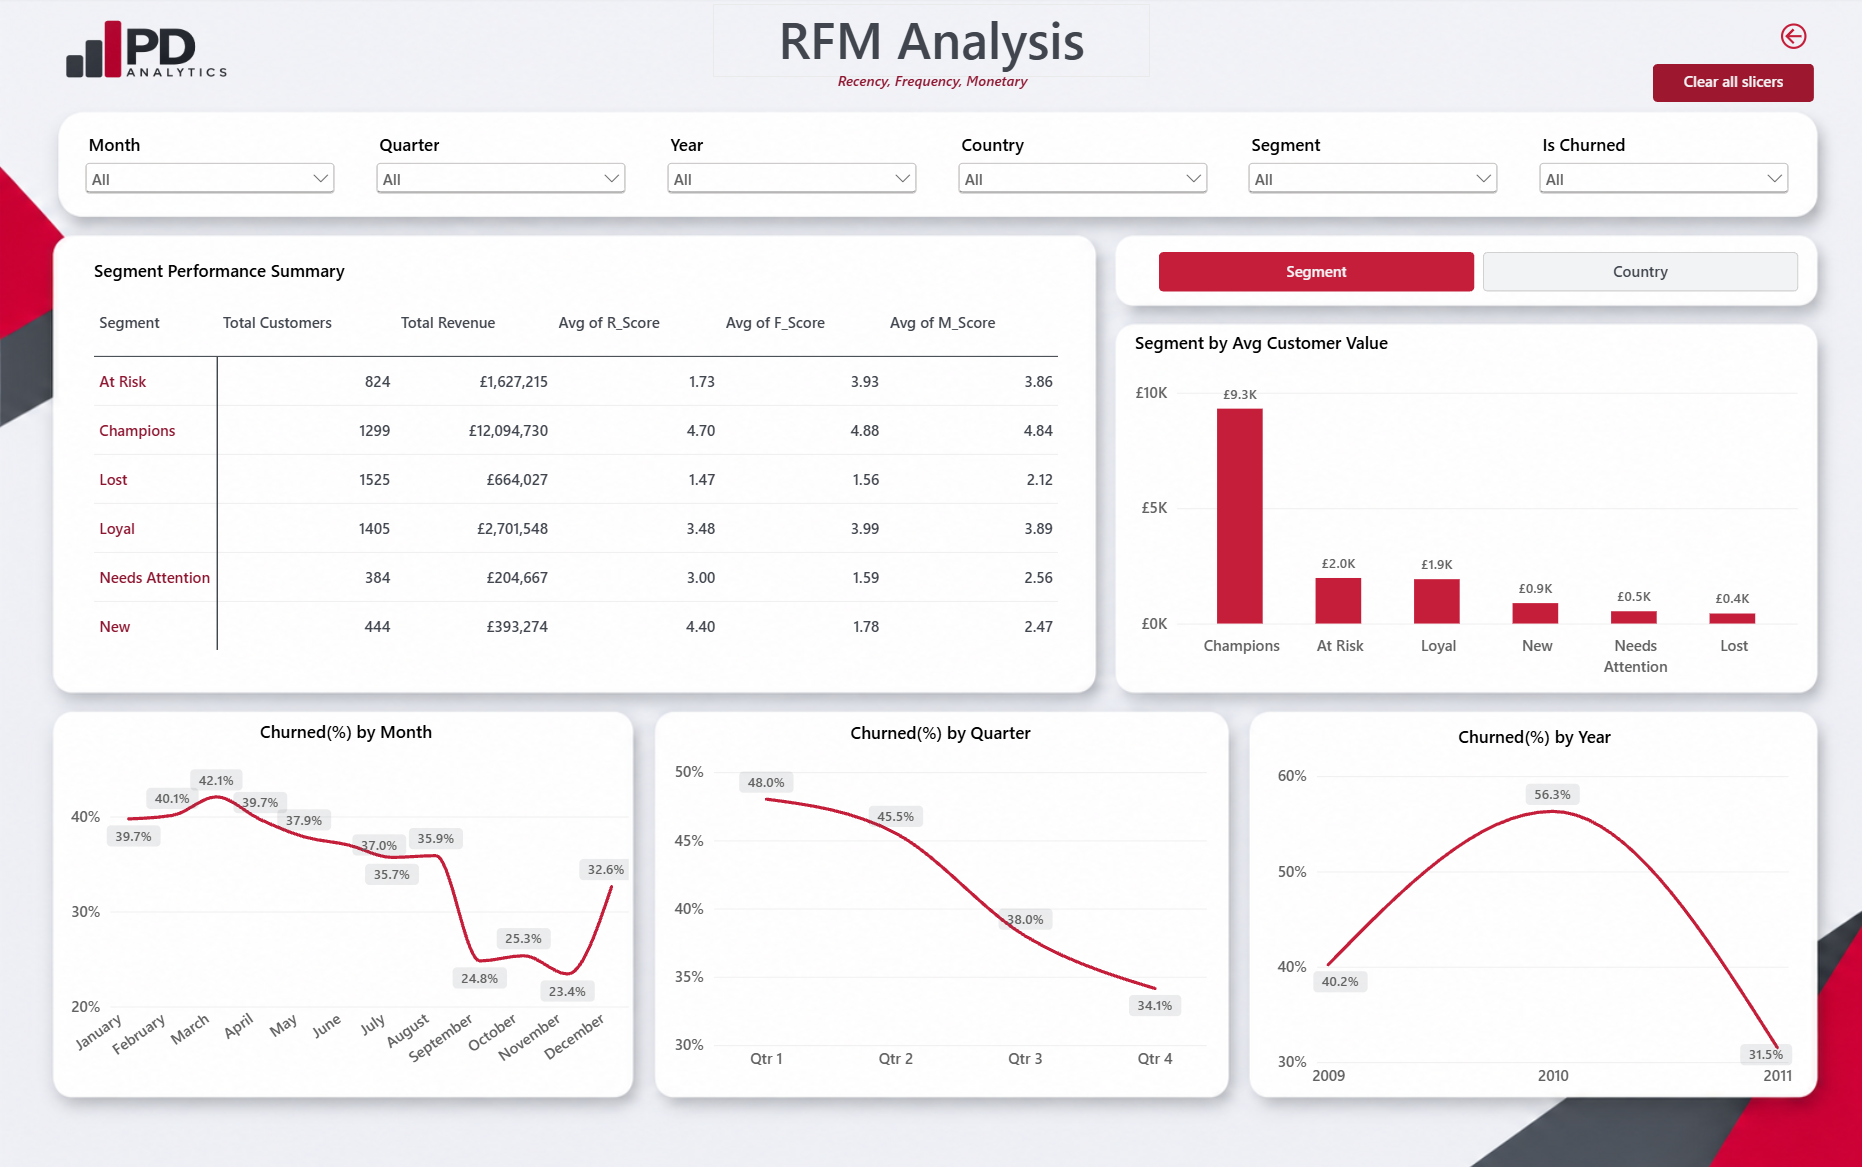

This screenshot's page, from the dashboard's own definition file:
{"tool":"powerbi","page":{"name":"RFM Analysis","canvas":[1750,1100],"ordinal":2},"visuals":[{"type":"slicer","fields":{"Values":["Retail.InvoiceDate.Variation.Date Hierarchy.Month"]},"box":[75.2,127.7,244,68],"z":0},{"type":"columnChart","title":"Segment by Avg Customer Value","fields":{"Category":["Retail.Segment"],"Y":["Retail._Average Customer Value"]},"box":[1048.9,300,654.4,356.7],"z":0,"group":"g1"},{"type":"pivotTable","title":"Segment Performance Summary","fields":{"Rows":["Retail.Segment"],"Values":["Retail._Total Customers","Retail._Total Revenue","Avg(Retail.R_Score)","Avg(Retail.F_Score)","Avg(Retail.M_Score)"]},"box":[72.2,232.2,940,414.4],"z":1000,"group":"g1"},{"type":"lineChart","title":"Churned(%) by Month","fields":{"Category":["Retail.InvoiceDate.Variation.Date Hierarchy.Month"],"Y":["Retail._Churn %"]},"box":[43.5,664.7,563.3,368.9],"z":1000},{"type":"slicer","fields":{"Values":["Retail.InvoiceDate.Variation.Date Hierarchy.Quarter"]},"box":[348.2,127.7,244,68],"z":2000},{"type":"lineChart","title":"Churned(%) by Quarter","fields":{"Category":["Retail.InvoiceDate.Variation.Date Hierarchy.Quarter"],"Y":["Retail._Churn %"]},"box":[616.3,665.2,532.2,362.2],"z":3000},{"type":"slicer","fields":{"Values":["Retail.InvoiceDate.Variation.Date Hierarchy.Year"]},"box":[621.1,127.7,244,68],"z":4000},{"type":"lineChart","title":"Churned(%) by Year","fields":{"Category":["Retail.InvoiceDate.Variation.Date Hierarchy.Year"],"Y":["Retail._Churn %"]},"box":[1182.9,669.5,515.6,374.4],"z":5000},{"type":"slicer","fields":{"Values":["Retail.Country"]},"box":[894,127.7,244,68],"z":6000},{"type":"slicer","fields":{"Values":["Retail.Segmentation"]},"box":[1167,127.7,244,68],"z":7000},{"type":"slicer","fields":{"Values":["Retail.IsChurned"]},"box":[1439.9,127.7,244,68],"z":8000},{"type":"bookmarkNavigator","box":[1087.5,239.7,600,37],"z":9000},{"type":"textbox","box":[669.5,6.6,410,68.9],"z":10000},{"type":"actionButton","box":[1641.7,18.8,84.4,35.6],"z":11000},{"type":"actionButton","box":[1551.7,63.3,151.1,35.6],"z":12000},{"type":"image","box":[36.7,10,201.1,74.4],"z":13000},{"type":"textbox","box":[738.9,68.9,273.3,31.1],"z":14000},{"type":"group","id":"g1","title":"Segment","box":[72.2,232.2,1631.1,424.4],"z":16000}]}

Visuals, with their boxes in screenshot pixels (x1, y1, x2, y2), scaled from the page's 1750x1100 canvas onto the 1862x1167 screenshot:
slicer - Retail.InvoiceDate.Variation.Date Hierarchy.Month: [left=80, top=135, right=340, bottom=208]
"Segment by Avg Customer Value" columnChart: [left=1116, top=318, right=1812, bottom=697]
"Segment Performance Summary" pivotTable: [left=77, top=246, right=1077, bottom=686]
"Churned(%) by Month" lineChart: [left=46, top=705, right=646, bottom=1097]
slicer - Retail.InvoiceDate.Variation.Date Hierarchy.Quarter: [left=370, top=135, right=630, bottom=208]
"Churned(%) by Quarter" lineChart: [left=656, top=706, right=1222, bottom=1090]
slicer - Retail.InvoiceDate.Variation.Date Hierarchy.Year: [left=661, top=135, right=920, bottom=208]
"Churned(%) by Year" lineChart: [left=1259, top=710, right=1807, bottom=1107]
slicer - Retail.Country: [left=951, top=135, right=1211, bottom=208]
slicer - Retail.Segmentation: [left=1242, top=135, right=1501, bottom=208]
slicer - Retail.IsChurned: [left=1532, top=135, right=1792, bottom=208]
bookmarkNavigator: [left=1157, top=254, right=1796, bottom=294]
textbox: [left=712, top=7, right=1149, bottom=80]
actionButton: [left=1747, top=20, right=1837, bottom=58]
actionButton: [left=1651, top=67, right=1812, bottom=105]
image: [left=39, top=11, right=253, bottom=90]
textbox: [left=786, top=73, right=1077, bottom=106]
"Segment" group: [left=77, top=246, right=1812, bottom=697]
